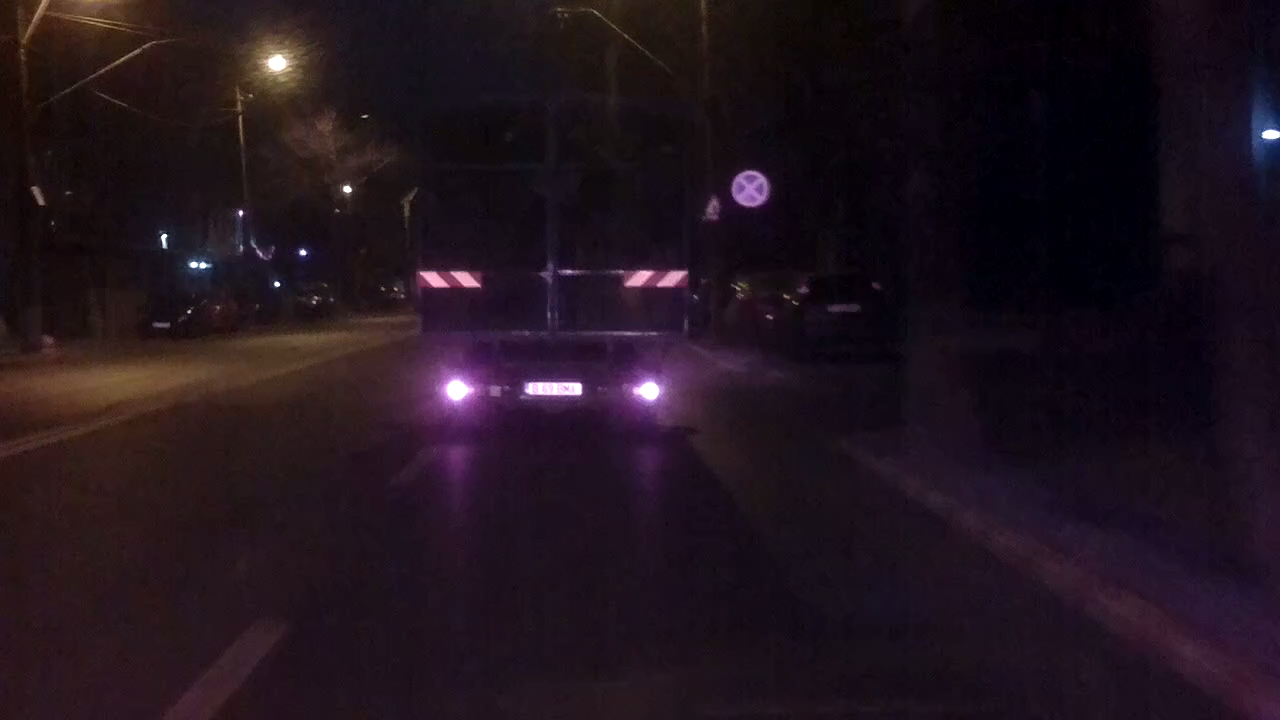license-plate: (519, 378, 586, 399)
